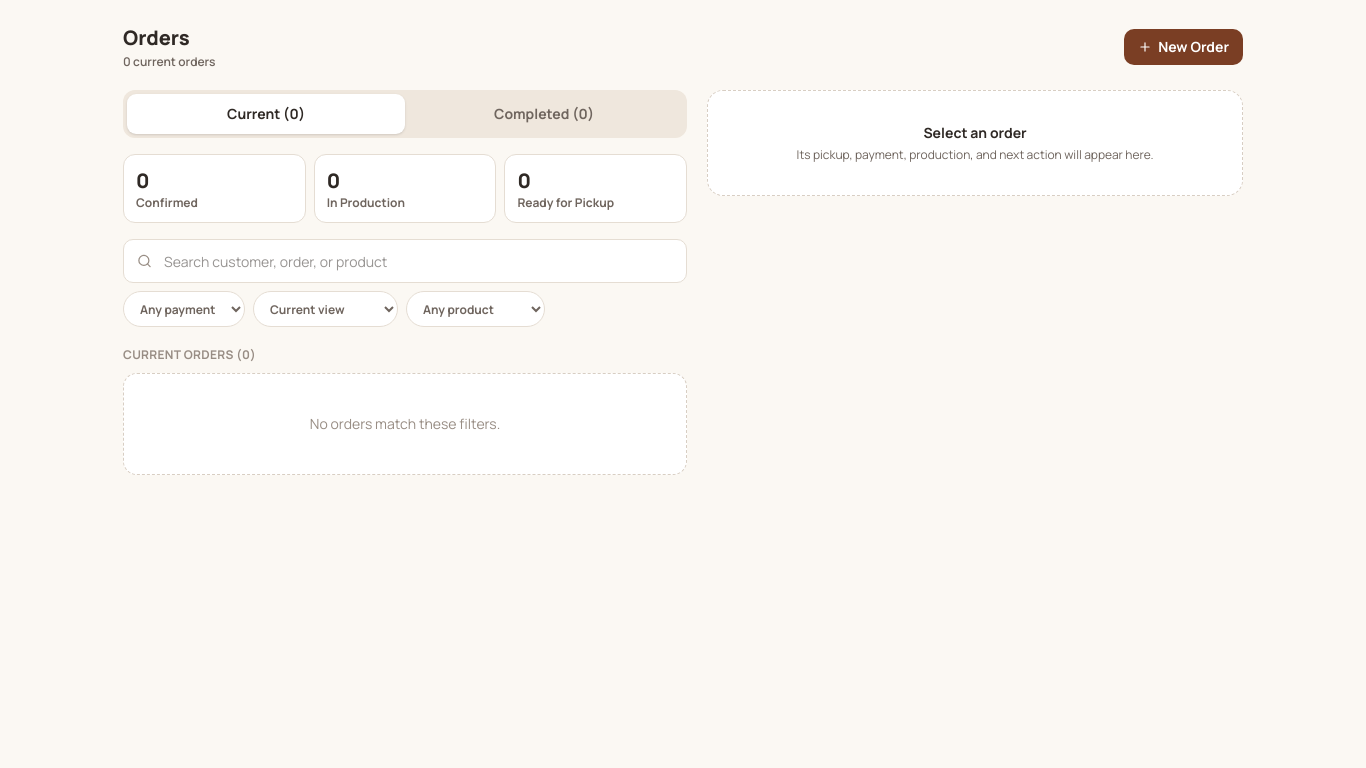
Test: OrdersScreen workflow queue › does not offer a lifecycle action for cancelled orders
Select "Cancelled orders" in the dropdown named "Record status" at point(326, 309), box left=253, top=291, right=398, bottom=327
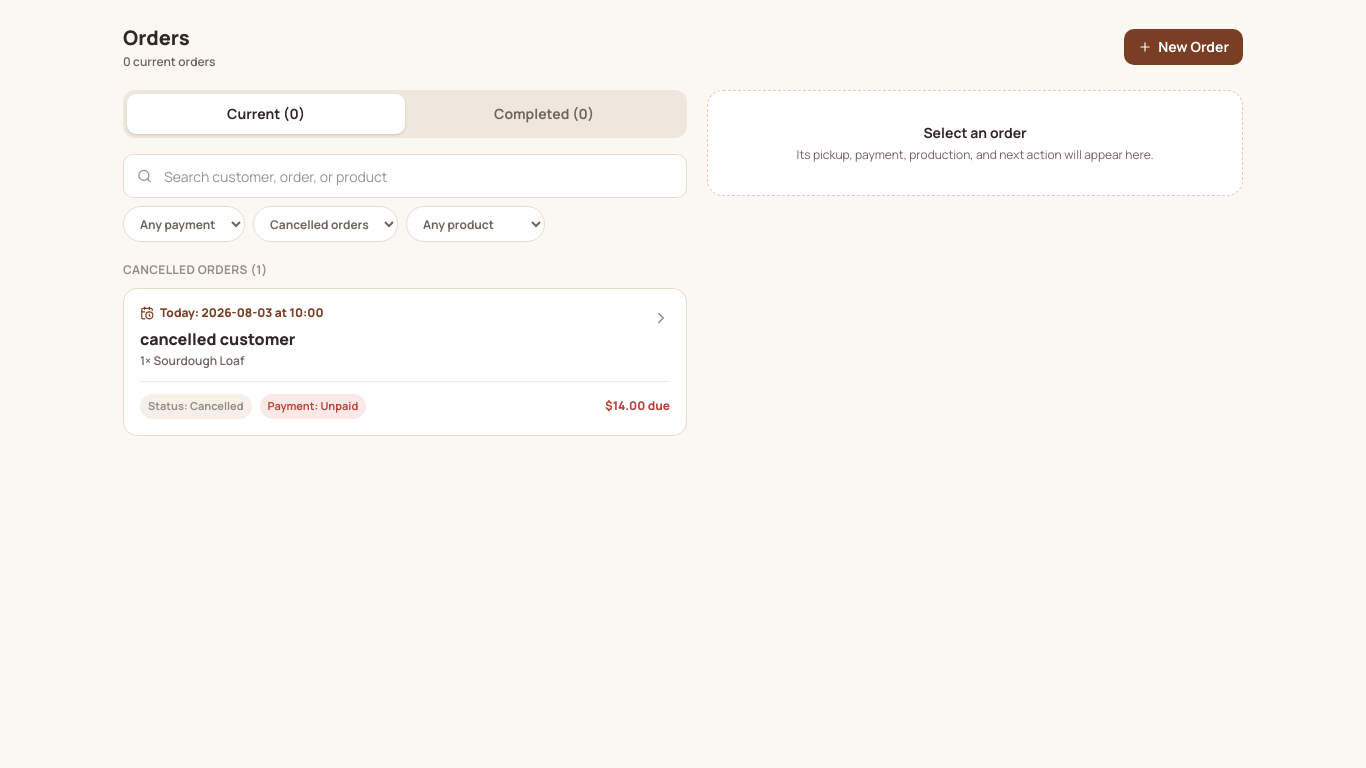
Click the button with aria-label "Open order order-cancelled for cancelled customer" at point(242, 312), box left=124, top=289, right=686, bottom=434
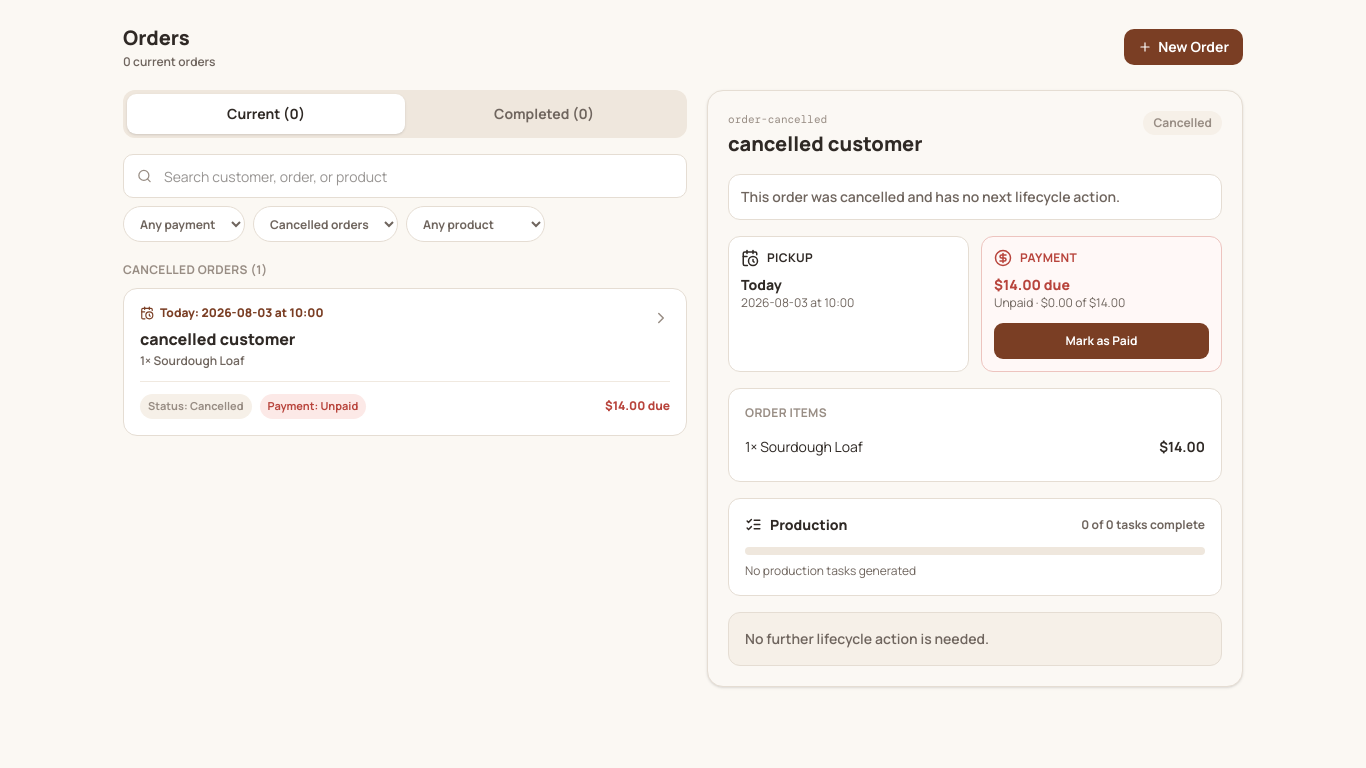
Expected: the text named "Order action" reads "No further lifecycle action is needed.", left=745, top=628, right=989, bottom=648
